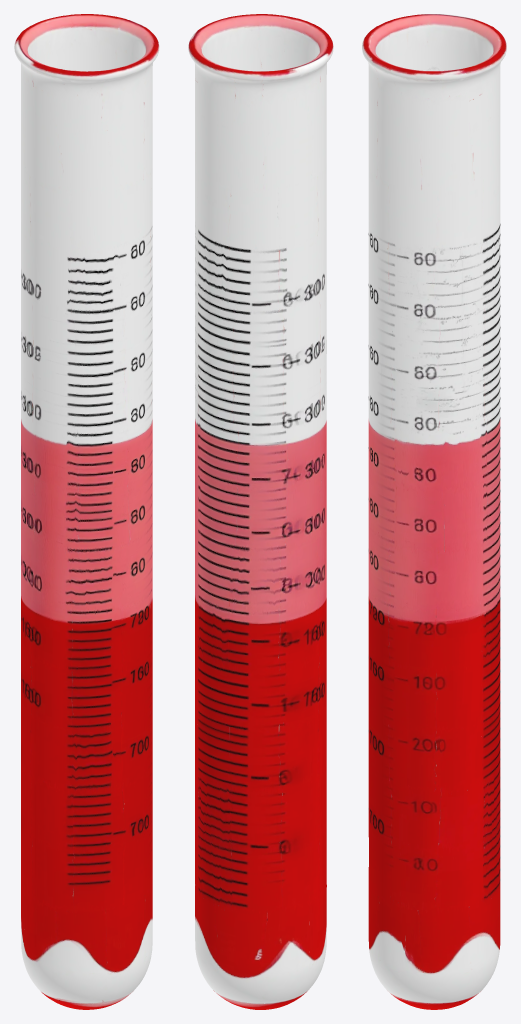
The model's file is termometro5M.glb.
3 renders of one model, left to right at view 1: azimuth 30°, elevation 25°; view 2: azimuth 150°, elevation 25°; view 3: azimuth 270°, elevation 25°, orthographic.
Parts seen in each view (by area): view 1: Mesh_0; view 2: Mesh_0; view 3: Mesh_0.
Part boxes in pixels (x1,y1,x2,y2): Mesh_0: (14,14,159,1009); Mesh_0: (188,14,333,1009); Mesh_0: (362,14,506,1009).
Bounding box in the file's own units: 0.6848 × 5 × 0.6848.
1 material, 1 textured.
